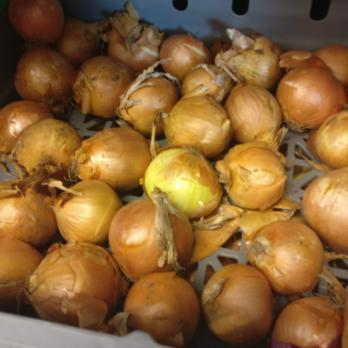Onion: (0, 8, 348, 309)
